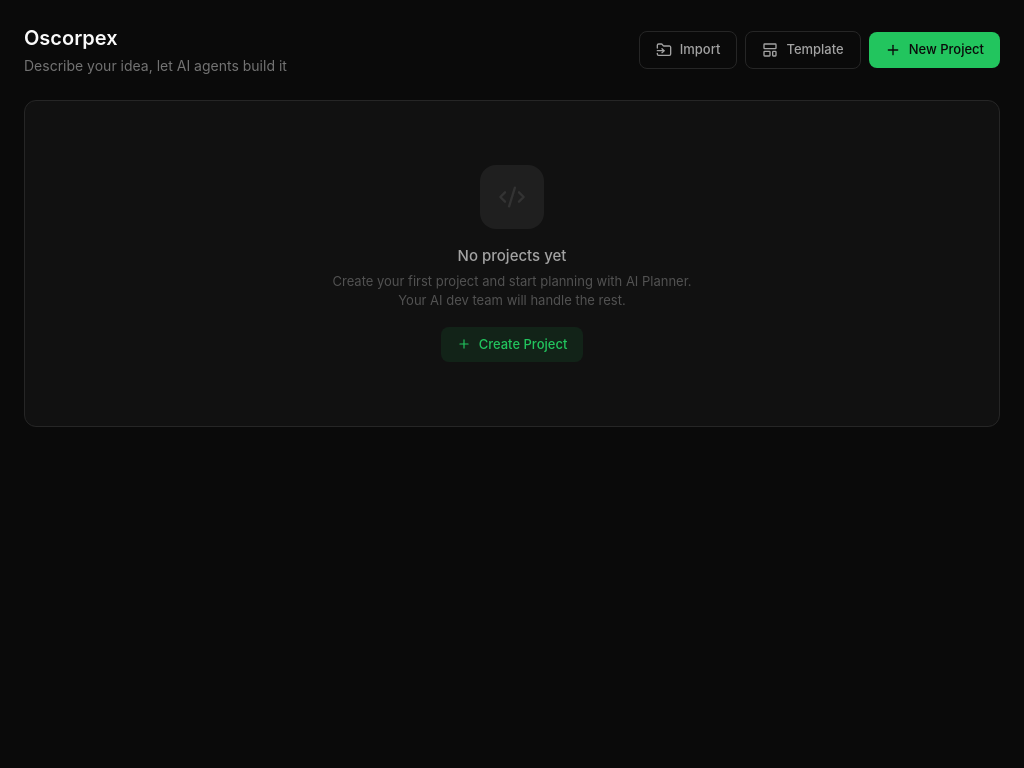
Test: StudioHomePage — proje olusturma modali › "New Project" butonuna tiklaninca modal acilmali
This screenshot has width=1024, height=768.
Click the button "New Project" at {"x": 934, "y": 50}, box [869,32,1000,68]
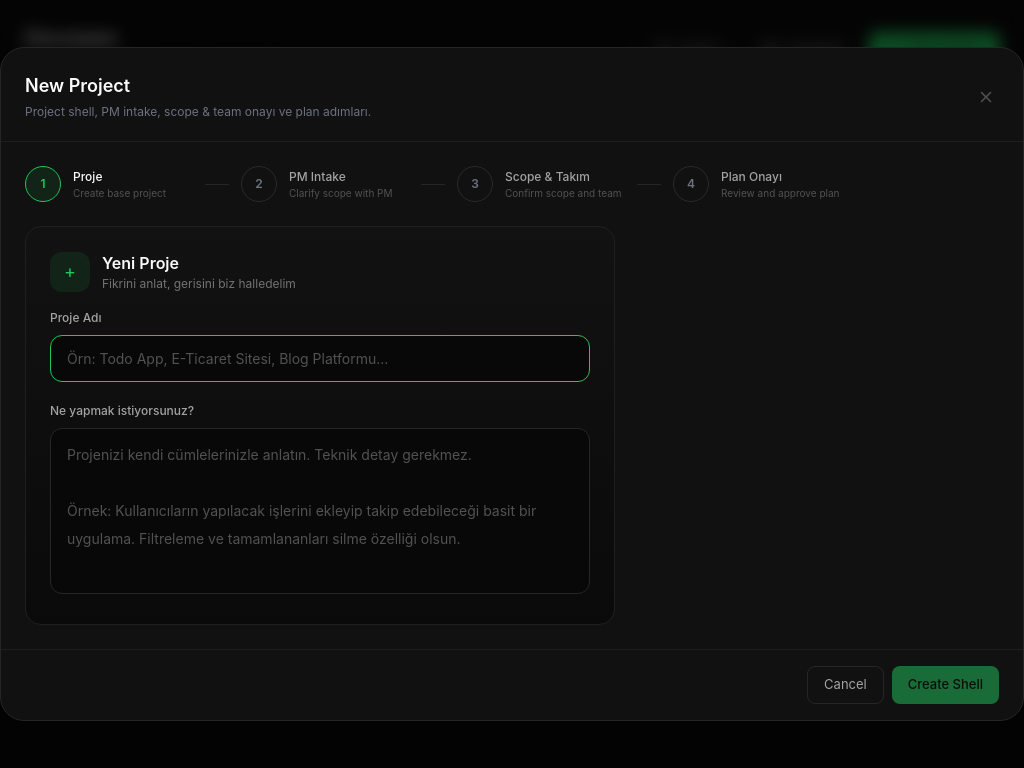
Expected: the heading "New Project" is shown, [25,75,130,96]
Expected: the field with placeholder "Örn: Todo App, E-Ticaret Sitesi, Blog Platformu..." is shown, [50,335,590,382]
